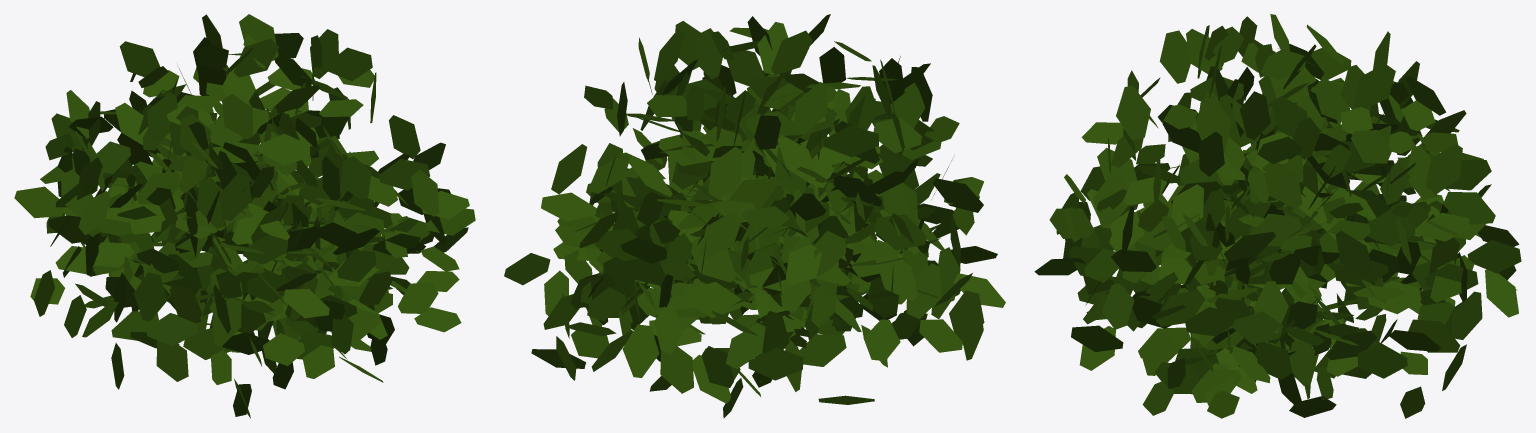
File: kust1.fbx
3 views of the same model, side by side, from view 1: azimuth 30°, elevation 25°; view 2: azimuth 150°, elevation 25°; view 3: azimuth 270°, elevation 25° (orthographic). The views are drawn at different scales.
Parts seen in each view (by area): view 1: Plane.3412; view 2: Plane.3412; view 3: Plane.3412.
Boxes of the visible parts, bbox=[...] form: Plane.3412: bbox=[14, 14, 475, 418]; Plane.3412: bbox=[504, 14, 1005, 418]; Plane.3412: bbox=[1034, 14, 1521, 418].
Size of the model in its own units: 213 by 162 by 220.
